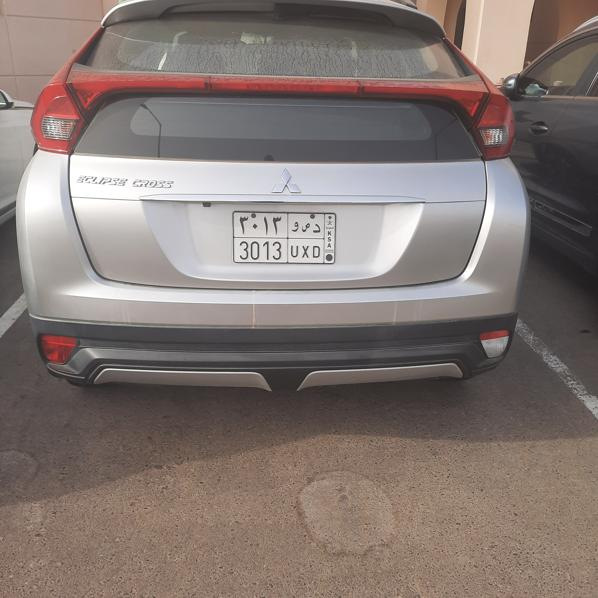numberplate: (234, 212, 335, 264)
